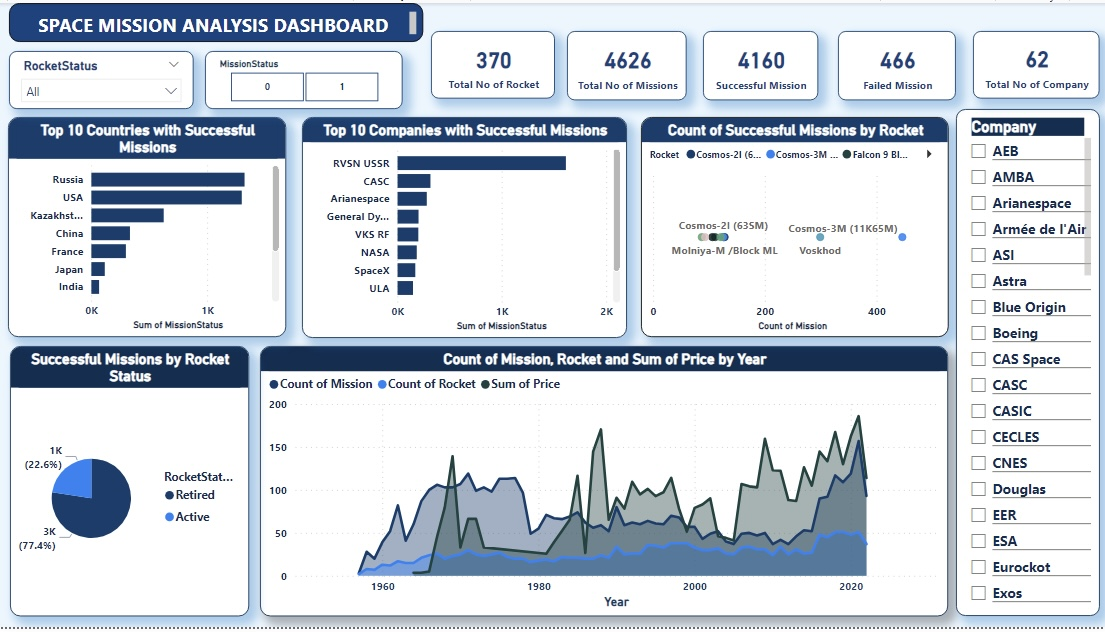

This screenshot's page, from the dashboard's own definition file:
{"tool":"powerbi","page":{"name":"Page 1","canvas":[1280,720],"ordinal":0},"visuals":[{"type":"textbox","box":[10.4,0,477.7,45],"z":0},{"type":"areaChart","title":"Count of Mission, Rocket and Sum of Price by Year","fields":{"Category":["Task 4 -Space_Missions (1).Year"],"Y":["CountNonNull(Task 4 -Space_Missions (1).Mission)","Count(Task 4 -Space_Missions (1).Rocket)"],"Y2":["Sum(Task 4 -Space_Missions (1).Price)"]},"box":[300,395.8,793.8,311.5],"z":1000},{"type":"pieChart","title":"Successful Missions by Rocket Status","fields":{"Category":["Task 4 -Space_Missions (1).RocketStatus"],"Y":["Sum(Task 4 -Space_Missions (1).MissionStatus)"]},"box":[11.5,395.8,275.8,311.5],"z":2000},{"type":"clusteredBarChart","title":"Top 10 Companies with Successful Missions","fields":{"Category":["Task 4 -Space_Missions (1).Company"],"Y":["Sum(Task 4 -Space_Missions (1).MissionStatus)"]},"box":[348.5,131.5,375,255],"z":3000},{"type":"scatterChart","title":"Count of Successful Missions by Rocket","fields":{"X":["CountNonNull(Task 4 -Space_Missions (1).Mission)"],"Series":["Task 4 -Space_Missions (1).Rocket"]},"box":[739.6,131.5,355.4,253.8],"z":4000},{"type":"clusteredBarChart","title":"Top 10 Countries with Successful Missions","fields":{"Category":["Task 4 -Space_Missions (1).Country"],"Y":["Sum(Task 4 -Space_Missions (1).MissionStatus)"]},"box":[9.2,131.5,320.8,253.8],"z":5000},{"type":"slicer","fields":{"Values":["Task 4 -Space_Missions (1).Company"]},"box":[1103.1,122.3,166.2,585],"z":6000},{"type":"card","fields":{"Values":["Count(Task 4 -Space_Missions (1).Rocket)"]},"box":[497.3,32.3,143.1,78.5],"z":7000},{"type":"card","fields":{"Values":["CountNonNull(Task 4 -Space_Missions (1).Mission)"]},"box":[654.2,32.3,138.5,79.6],"z":8000},{"type":"card","fields":{"Values":["Sum(Task 4 -Space_Missions (1).MissionStatus)"]},"box":[811.2,32.3,132.7,79.6],"z":9000},{"type":"card","fields":{"Values":["CountNonNull(Task 4 -Space_Missions (1).MissionStatus)"]},"box":[966.9,32.3,136.2,79.6],"z":10000},{"type":"slicer","fields":{"Values":["Task 4 -Space_Missions (1).RocketStatus"]},"box":[10.4,55.4,213.5,66.9],"z":11000},{"type":"slicer","fields":{"Values":["Task 4 -Space_Missions (1).MissionStatus"]},"box":[236.5,55.4,228.5,66.9],"z":12000},{"type":"card","fields":{"Values":["Count(Task 4 -Space_Missions (1).Company)"]},"box":[1122.8,32.4,145.8,77.8],"z":13000}]}

Visuals, with their boxes in screenshot pixels (x1, y1, x2, y2), scaled from the page's 1280x720 canvas onto the 1105x632 screenshot:
textbox: (left=9, top=0, right=421, bottom=40)
"Count of Mission, Rocket and Sum of Price by Year" areaChart: (left=259, top=347, right=944, bottom=621)
"Successful Missions by Rocket Status" pieChart: (left=10, top=347, right=248, bottom=621)
"Top 10 Companies with Successful Missions" clusteredBarChart: (left=301, top=115, right=625, bottom=339)
"Count of Successful Missions by Rocket" scatterChart: (left=638, top=115, right=945, bottom=338)
"Top 10 Countries with Successful Missions" clusteredBarChart: (left=8, top=115, right=285, bottom=338)
slicer - Task 4 -Space_Missions (1).Company: (left=952, top=107, right=1096, bottom=621)
card - Count(Task 4 -Space_Missions (1).Rocket): (left=429, top=28, right=553, bottom=97)
card - CountNonNull(Task 4 -Space_Missions (1).Mission): (left=565, top=28, right=684, bottom=98)
card - Sum(Task 4 -Space_Missions (1).MissionStatus): (left=700, top=28, right=815, bottom=98)
card - CountNonNull(Task 4 -Space_Missions (1).MissionStatus): (left=835, top=28, right=952, bottom=98)
slicer - Task 4 -Space_Missions (1).RocketStatus: (left=9, top=49, right=193, bottom=107)
slicer - Task 4 -Space_Missions (1).MissionStatus: (left=204, top=49, right=401, bottom=107)
card - Count(Task 4 -Space_Missions (1).Company): (left=969, top=28, right=1095, bottom=97)
